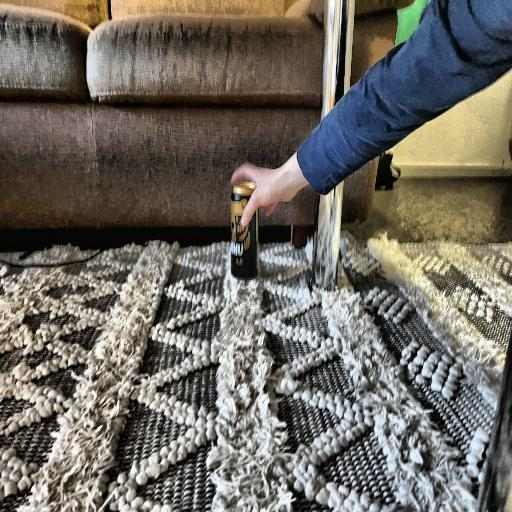karhu: (226, 172, 261, 275)
